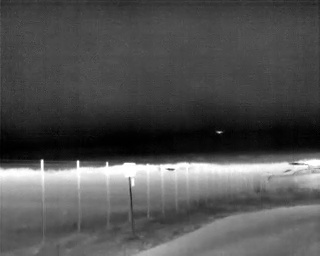AIRPLANE: (214, 128, 224, 136)
